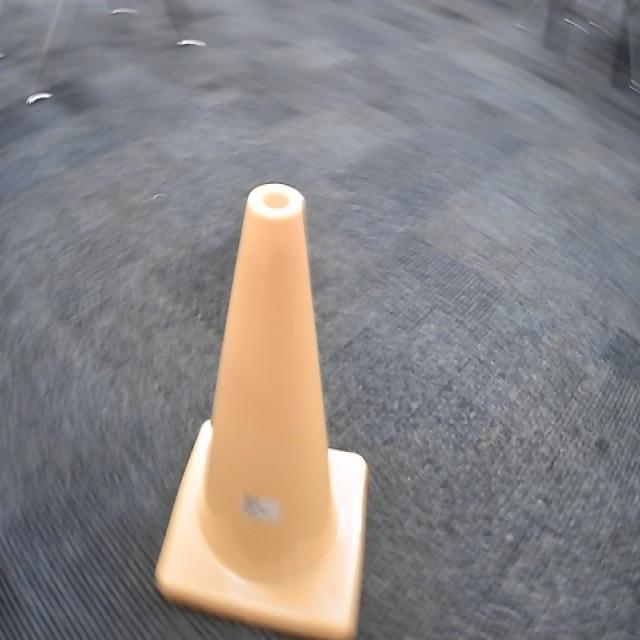cone: (154, 177, 373, 640)
